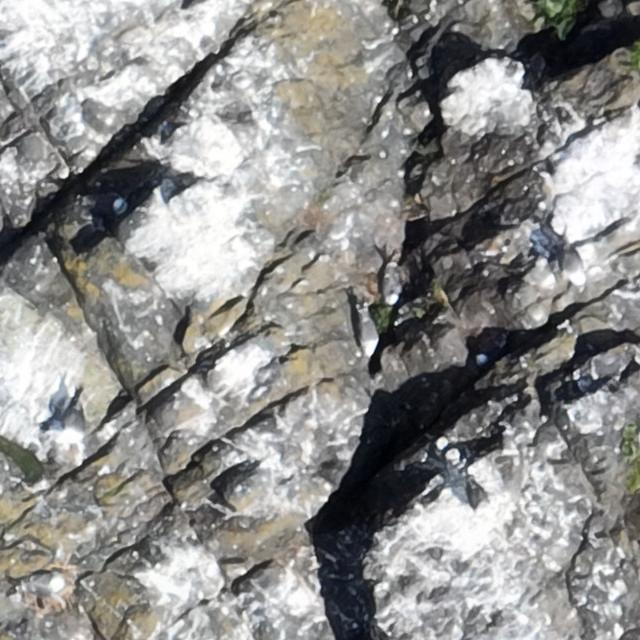umineko: (554, 235, 590, 287), (60, 396, 86, 447), (466, 472, 494, 518), (17, 571, 68, 594), (92, 191, 130, 213), (359, 314, 378, 354), (382, 267, 398, 305)
